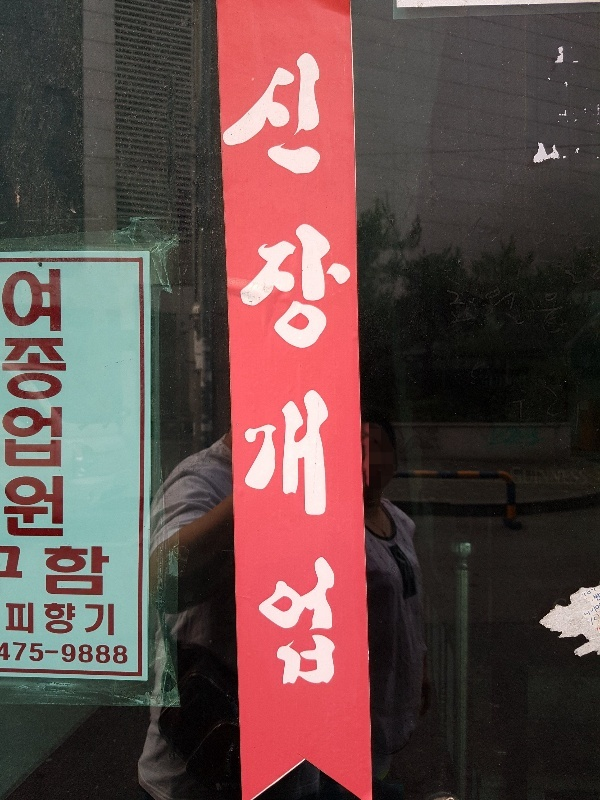text: (225, 49, 240, 695), (241, 49, 256, 695), (257, 49, 272, 695), (273, 49, 288, 695), (289, 49, 304, 695), (305, 49, 320, 695), (321, 49, 336, 695), (337, 49, 352, 695), (216, 49, 224, 695), (17, 266, 32, 541), (33, 266, 48, 541), (49, 266, 64, 541), (353, 49, 359, 695), (2, 266, 16, 541), (65, 266, 75, 541), (49, 543, 64, 599), (65, 543, 80, 599), (81, 543, 96, 599), (97, 543, 112, 599), (1, 543, 16, 581), (17, 602, 32, 638), (33, 602, 48, 638), (49, 602, 64, 638), (65, 602, 80, 638), (81, 602, 96, 638), (97, 602, 112, 638), (113, 641, 129, 666), (1, 641, 16, 666), (17, 641, 32, 666), (33, 641, 48, 666), (49, 641, 64, 666), (65, 641, 80, 666), (81, 641, 96, 666), (97, 641, 112, 666), (6, 602, 16, 638), (17, 543, 24, 581), (44, 543, 48, 599), (113, 602, 115, 638)
